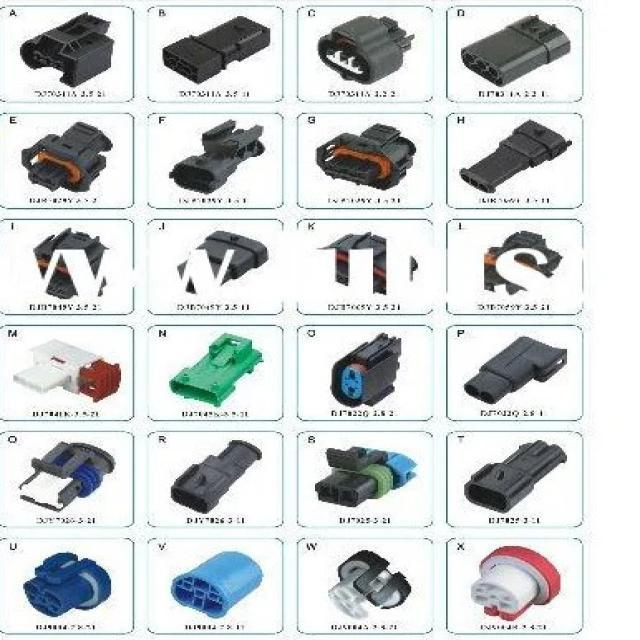connector: (457, 528, 568, 639), (458, 420, 569, 526), (163, 103, 274, 208), (453, 107, 574, 202), (14, 110, 126, 212), (16, 1, 128, 103), (7, 425, 121, 522), (158, 1, 276, 93), (458, 3, 573, 97), (454, 322, 574, 412), (166, 320, 268, 422), (164, 535, 268, 632), (164, 423, 263, 523), (319, 324, 422, 420), (310, 109, 420, 196), (319, 540, 416, 636), (312, 441, 419, 515), (20, 545, 115, 619)
